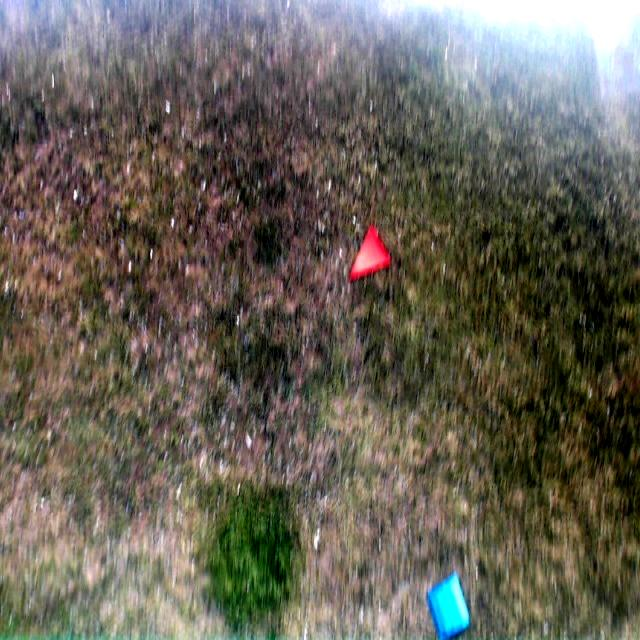blue_square: (427, 571, 470, 638)
red_triangle: (350, 227, 391, 286)
